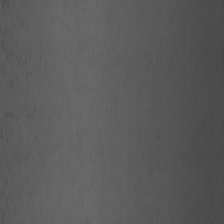silk_spot: (0, 31, 49, 198)
